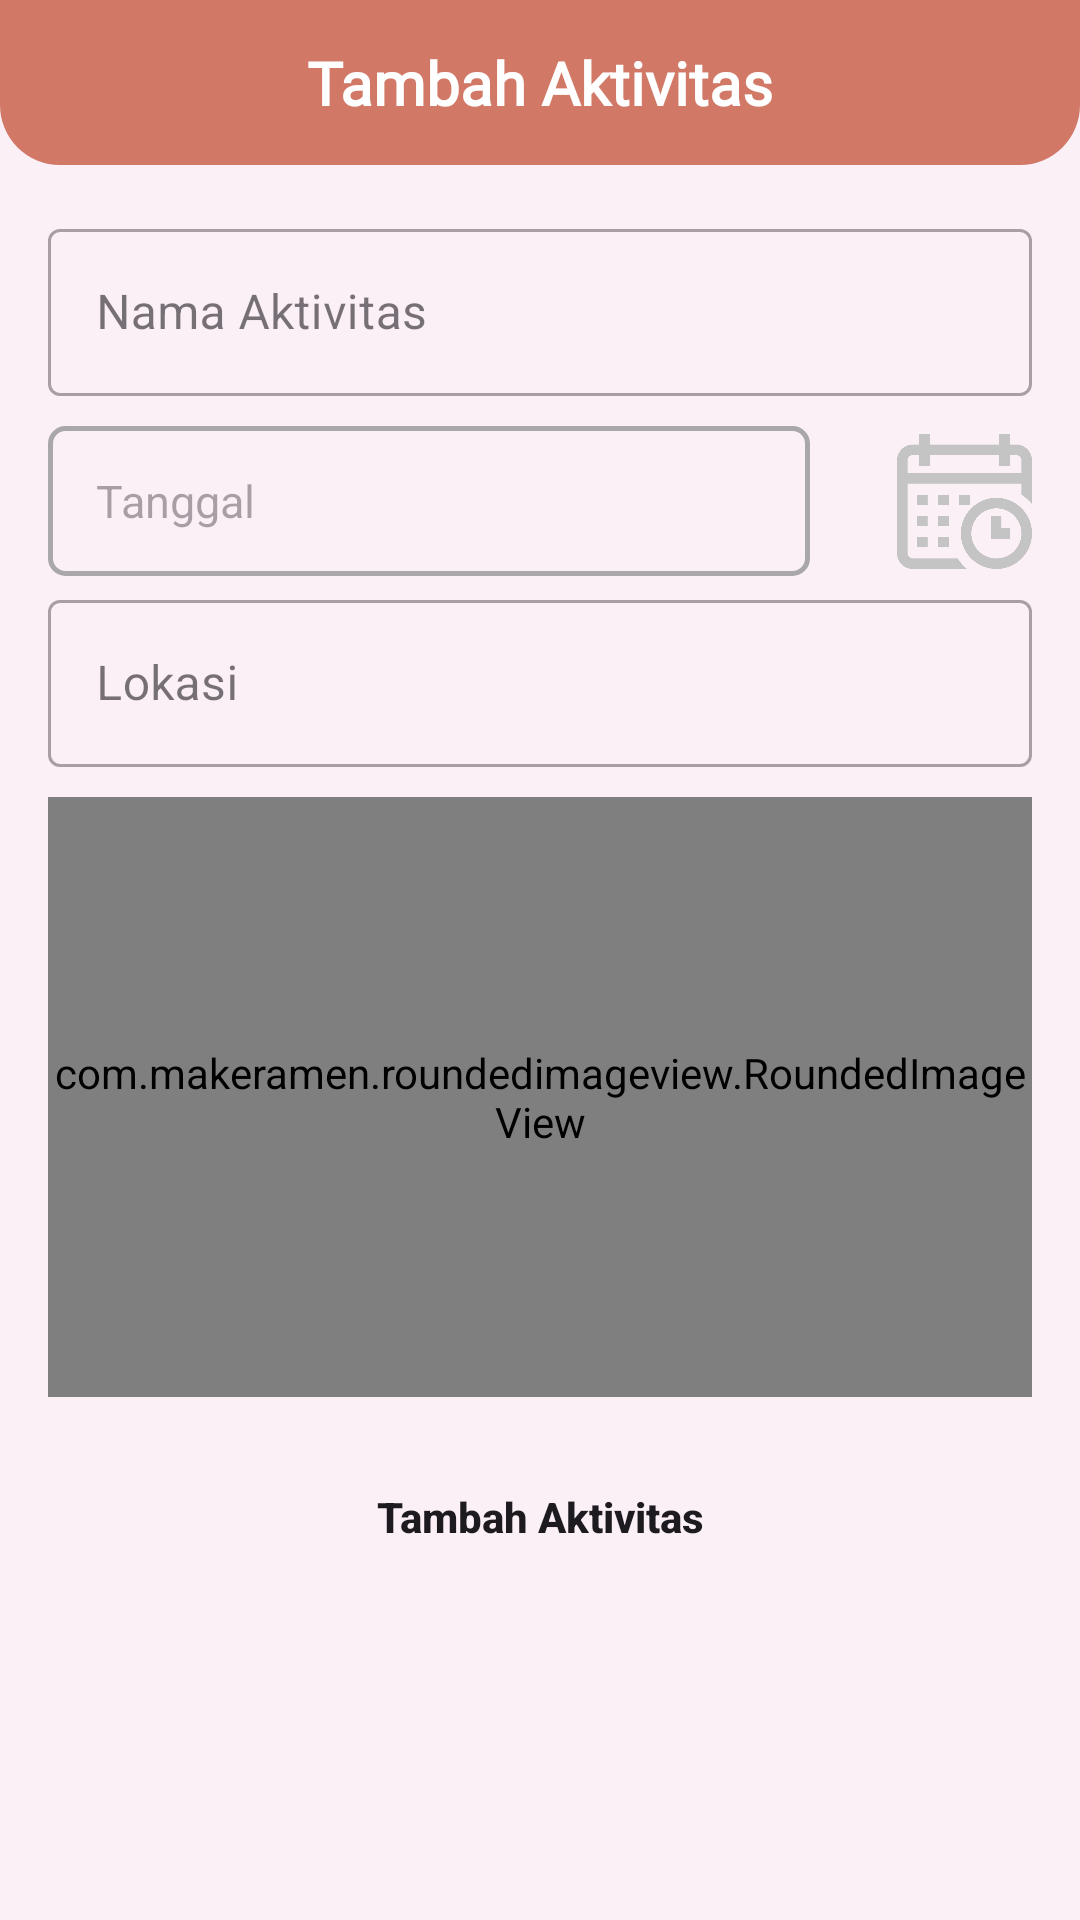

Point at icon controls on the screen. Image size 1080w x 1920h, points as [x,y].
calendar: [964,501]
